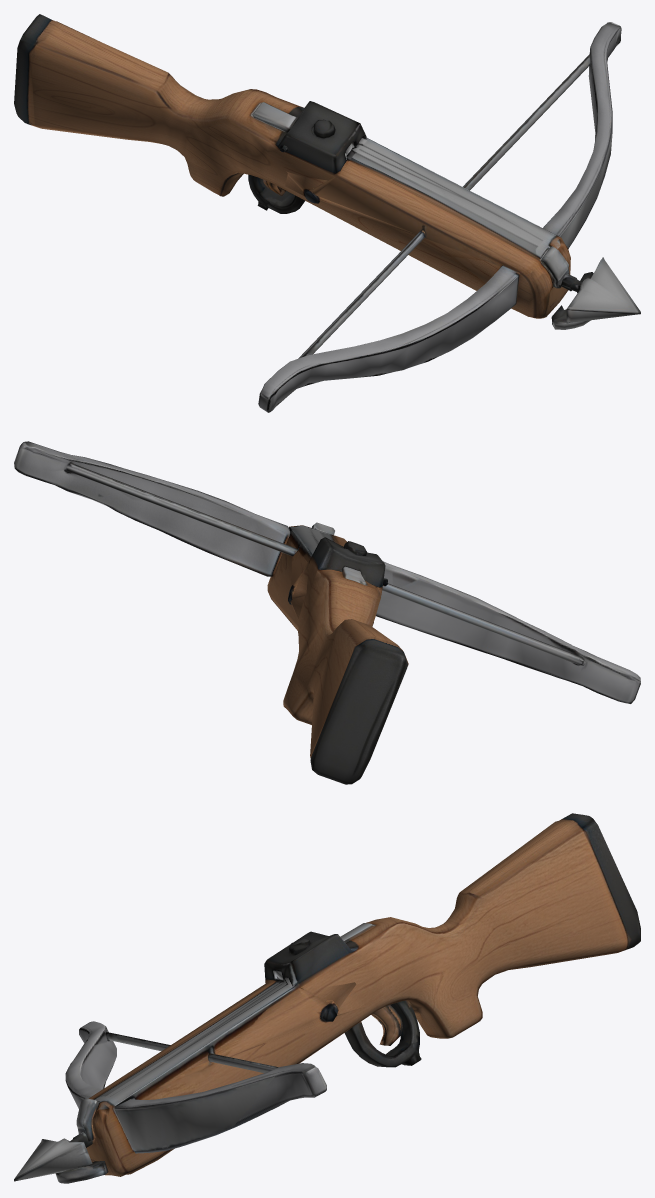
The model's file is crossbow.glb.
3 views of the same model, one above another, from view 1: azimuth 30°, elevation 25°; view 2: azimuth 150°, elevation 25°; view 3: azimuth 270°, elevation 25° (orthographic). The views are drawn at different scales.
Visible parts, largest first — view 1: tripo_node_be4dceeb-b1fe-4136-895c-207df9011fc9; view 2: tripo_node_be4dceeb-b1fe-4136-895c-207df9011fc9; view 3: tripo_node_be4dceeb-b1fe-4136-895c-207df9011fc9.
Part boxes in pixels (<box>): tripo_node_be4dceeb-b1fe-4136-895c-207df9011fc9: <box>14,14,640,412</box>; tripo_node_be4dceeb-b1fe-4136-895c-207df9011fc9: <box>14,441,640,784</box>; tripo_node_be4dceeb-b1fe-4136-895c-207df9011fc9: <box>14,813,640,1183</box>.
Size of the model in its own units: 0.9395 by 0.4199 by 0.998.
1 material, 1 textured.
